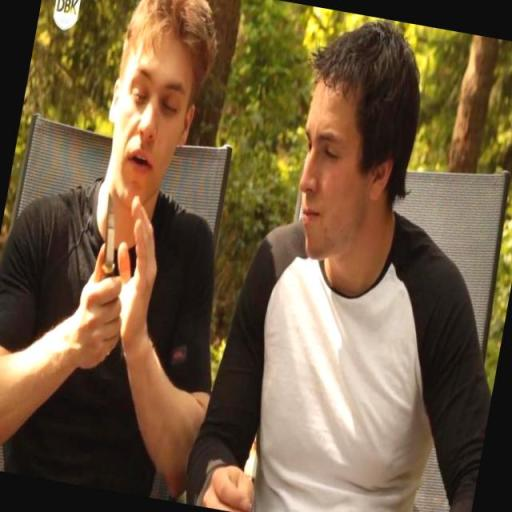knife: (90, 189, 131, 289)
